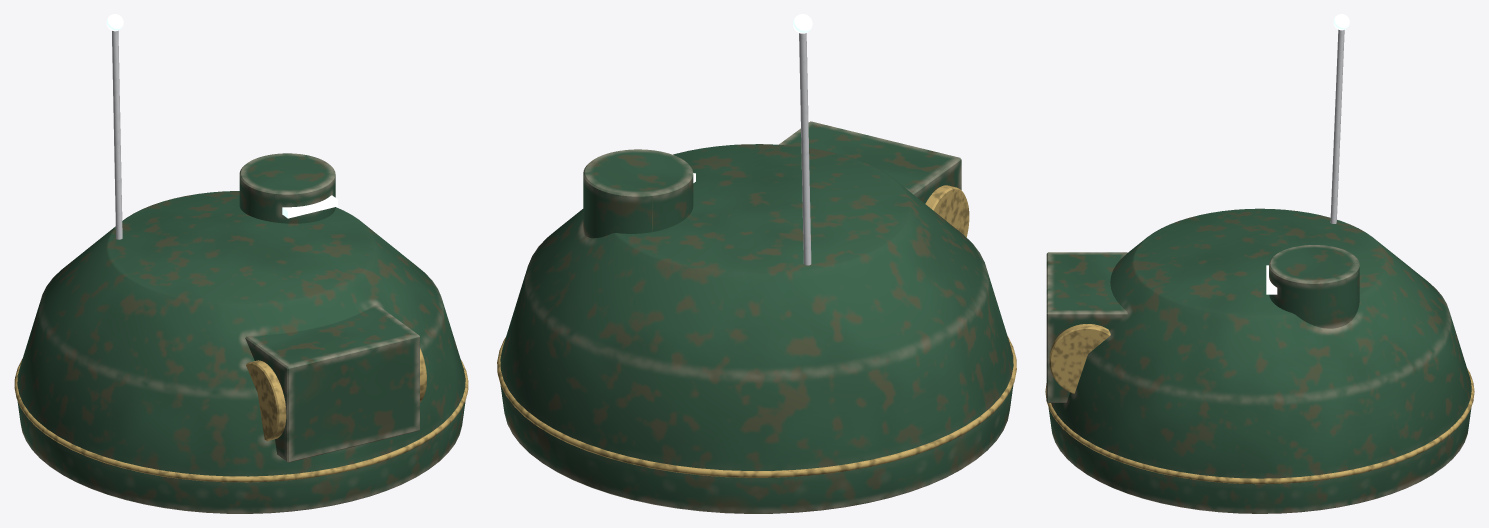
Rendered from colossus_turret.glb.
3 views of the same model, side by side, from view 1: azimuth 30°, elevation 25°; view 2: azimuth 150°, elevation 25°; view 3: azimuth 270°, elevation 25° (orthographic). The views are drawn at different scales.
Visible parts, largest first — view 1: colossus_turret; view 2: colossus_turret; view 3: colossus_turret.
Part boxes in pixels (x1,y1,x2,y2): colossus_turret: [14, 14, 468, 513]; colossus_turret: [497, 14, 1016, 513]; colossus_turret: [1045, 14, 1474, 513].
Bounding box in the file's own units: 4.73 × 4.54 × 4.73.
Materials: 4 (3 with a texture image).
